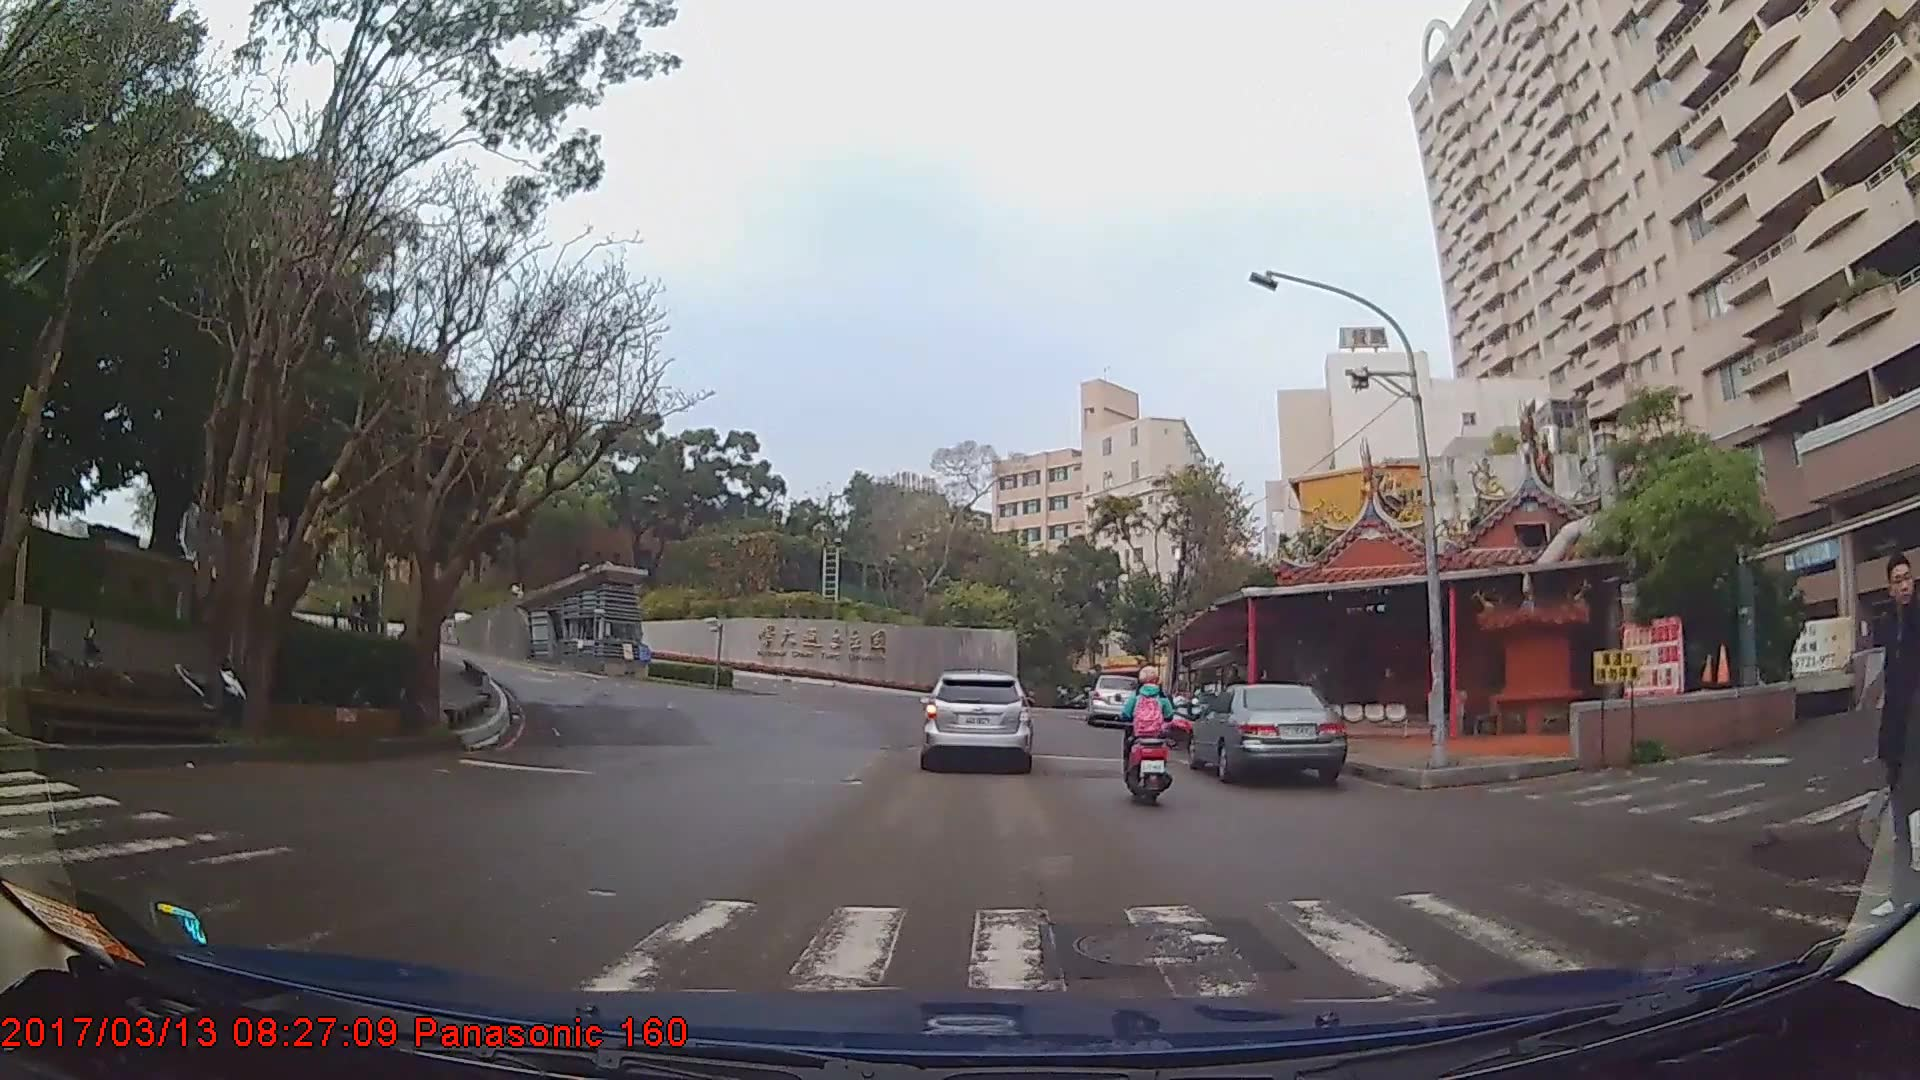rider: (1119, 663, 1182, 813)
vehicle: (1185, 683, 1347, 786), (920, 670, 1031, 773), (1085, 673, 1138, 724)
